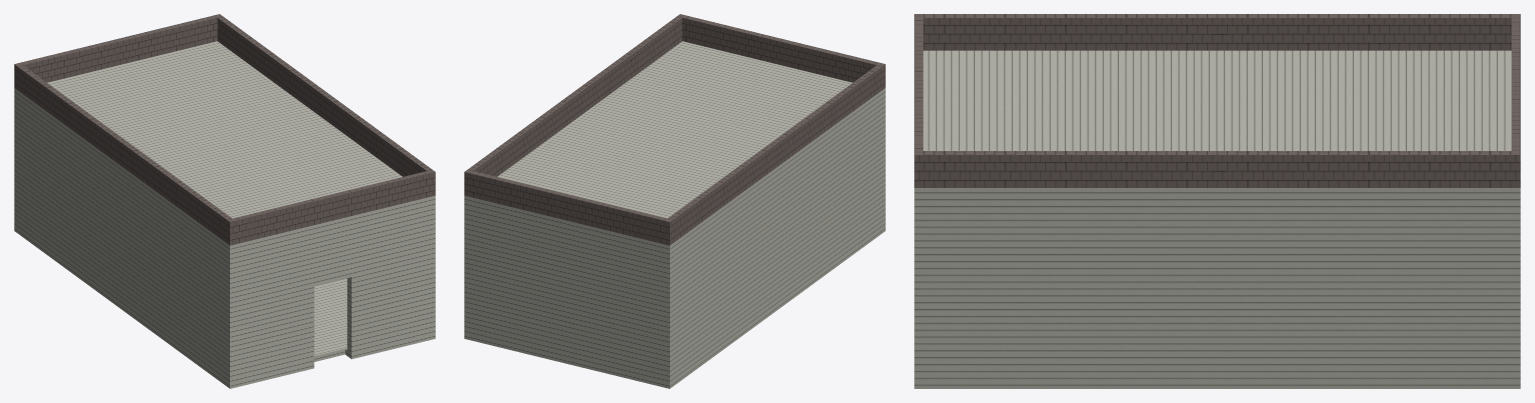
File: barber_salon.glb
The picture shows the model from 3 angles, left to right: view 1: azimuth 30°, elevation 25°; view 2: azimuth 150°, elevation 25°; view 3: azimuth 270°, elevation 25°; orthographic projection. The views are drawn at different scales.
Parts seen in each view (by area): view 1: barber_salon-col; view 2: barber_salon-col; view 3: barber_salon-col.
Part boxes in pixels (x1=…): barber_salon-col: x1=14, y1=14, x2=435, y2=388; barber_salon-col: x1=464, y1=14, x2=885, y2=388; barber_salon-col: x1=914, y1=14, x2=1520, y2=388.
Bounding box in the file's own units: 5.5 × 4.26 × 10.
2 materials, 2 textured.
